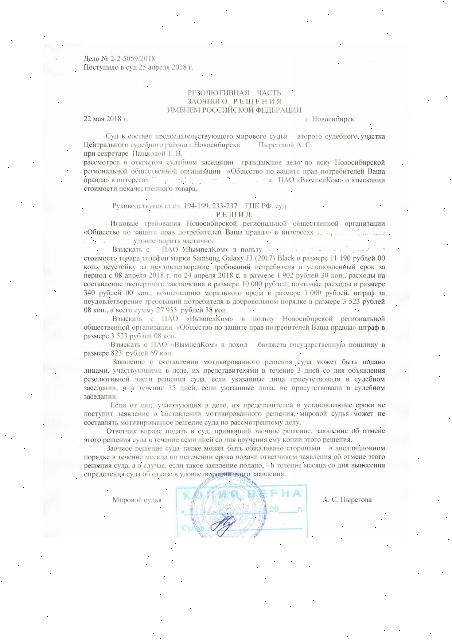stamp: (192, 472, 268, 550)
